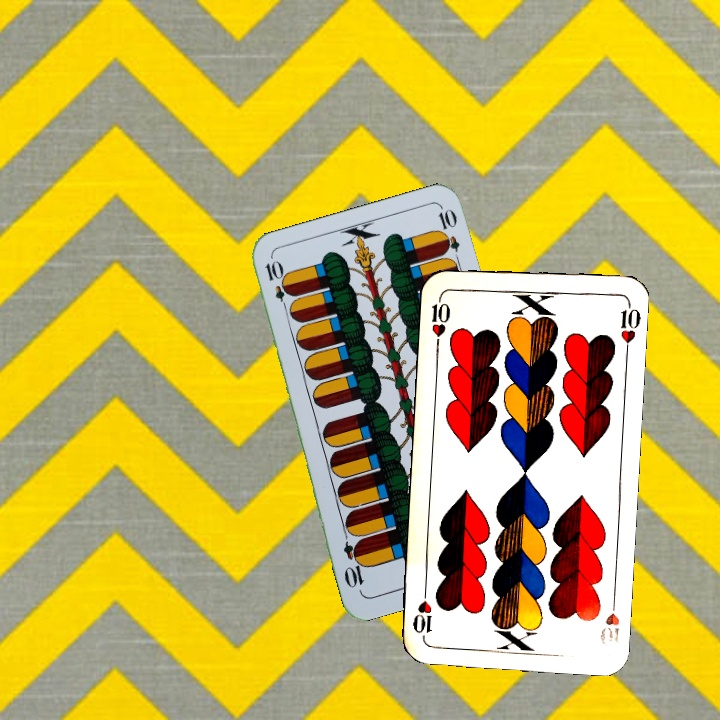E10: (261, 256, 293, 315)
H10: (427, 290, 453, 350), (595, 591, 622, 648)
